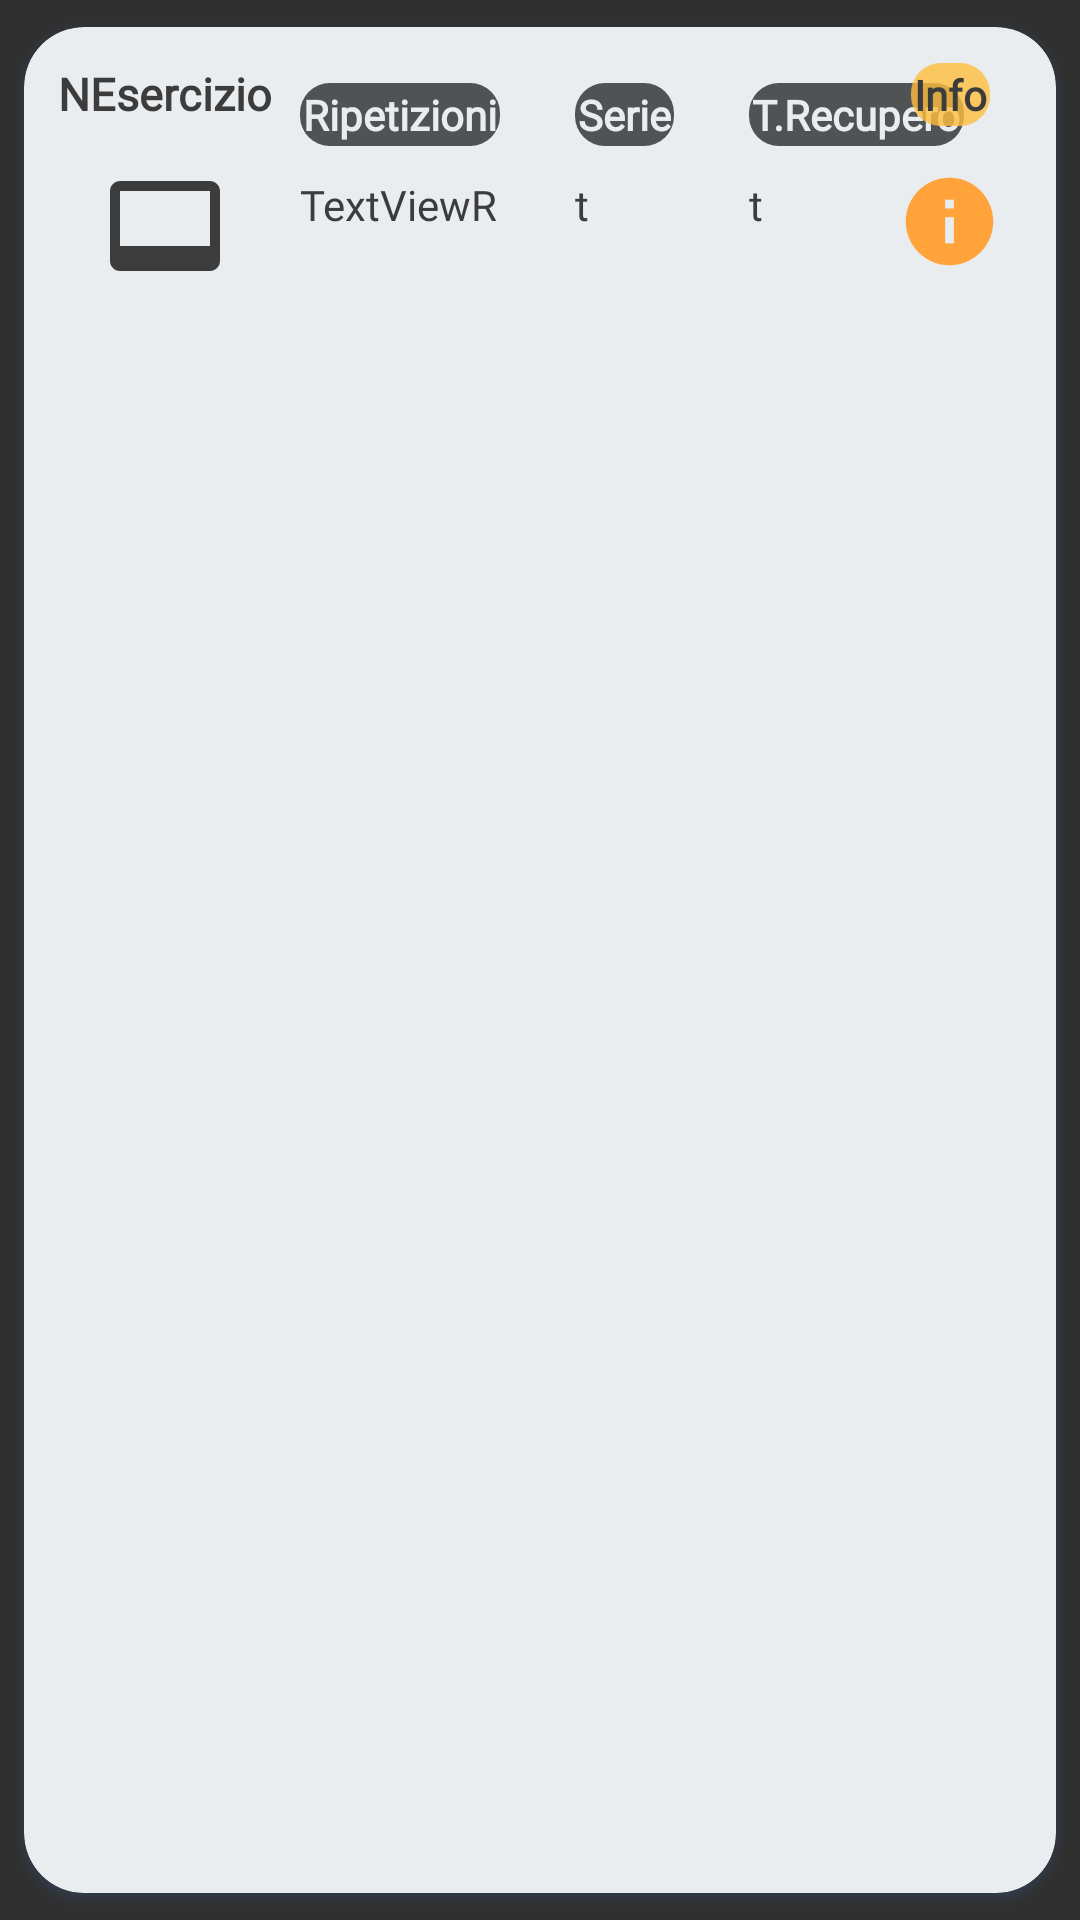

Named icons in this screenshot (1080×1920) and their centers, [x,y]:
video label: [165,226]
